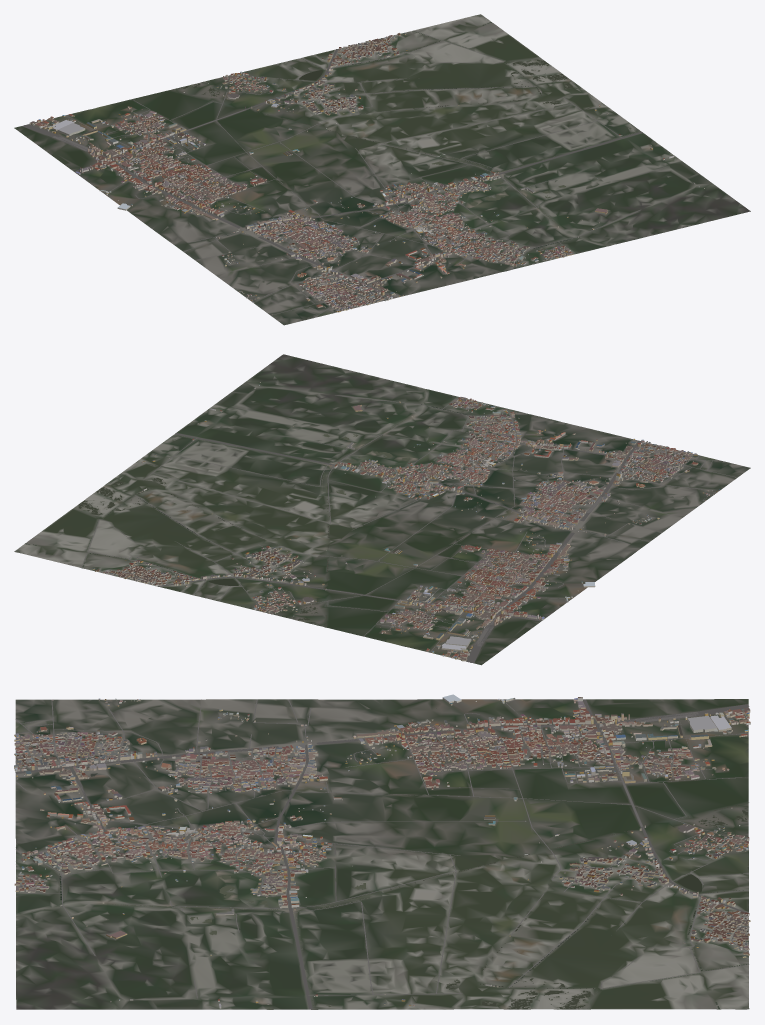
3 views of the same model, one above another, from view 1: azimuth 30°, elevation 25°; view 2: azimuth 150°, elevation 25°; view 3: azimuth 270°, elevation 25° (orthographic). The views are drawn at different scales.
Parts seen in each view (by area): view 1: ground, buildings, roads, water; view 2: ground, buildings, roads, water; view 3: ground, buildings, roads, water.
Boxes of the visible parts, left/top/right/bottom form: ground: left=14, top=14, right=750, bottom=325; buildings: left=29, top=33, right=704, bottom=314; roads: left=22, top=30, right=667, bottom=318; water: left=169, top=22, right=657, bottom=277; ground: left=14, top=354, right=750, bottom=665; buildings: left=93, top=381, right=735, bottom=661; roads: left=81, top=395, right=737, bottom=662; water: left=25, top=394, right=610, bottom=627; ground: left=15, top=699, right=749, bottom=1009; buildings: left=14, top=694, right=750, bottom=1008; roads: left=15, top=699, right=749, bottom=1009; water: left=16, top=708, right=748, bottom=1009.
Size of the model in its own units: 2837 by 33.07 by 2819.
